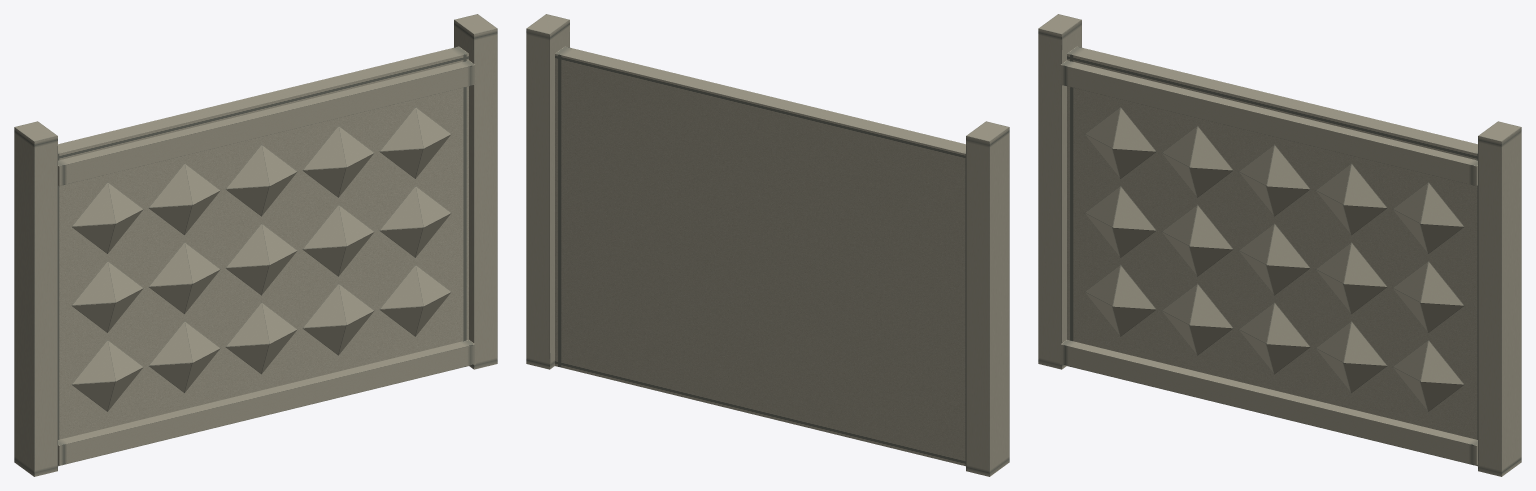
The model's file is CIS_ConcreteFence.glb.
3 views of the same model, side by side, from view 1: azimuth 30°, elevation 25°; view 2: azimuth 150°, elevation 25°; view 3: azimuth 330°, elevation 25° (orthographic).
Visible parts, largest first — view 1: CIS_ConcreteFence; view 2: CIS_ConcreteFence; view 3: CIS_ConcreteFence.
Part boxes in pixels (x1=…): CIS_ConcreteFence: x1=14, y1=14, x2=497, y2=476; CIS_ConcreteFence: x1=526, y1=14, x2=1009, y2=476; CIS_ConcreteFence: x1=1038, y1=14, x2=1521, y2=476.
Size of the model in its own units: 2.95 by 2.04 by 0.26.
Materials: 1 (1 with a texture image).
